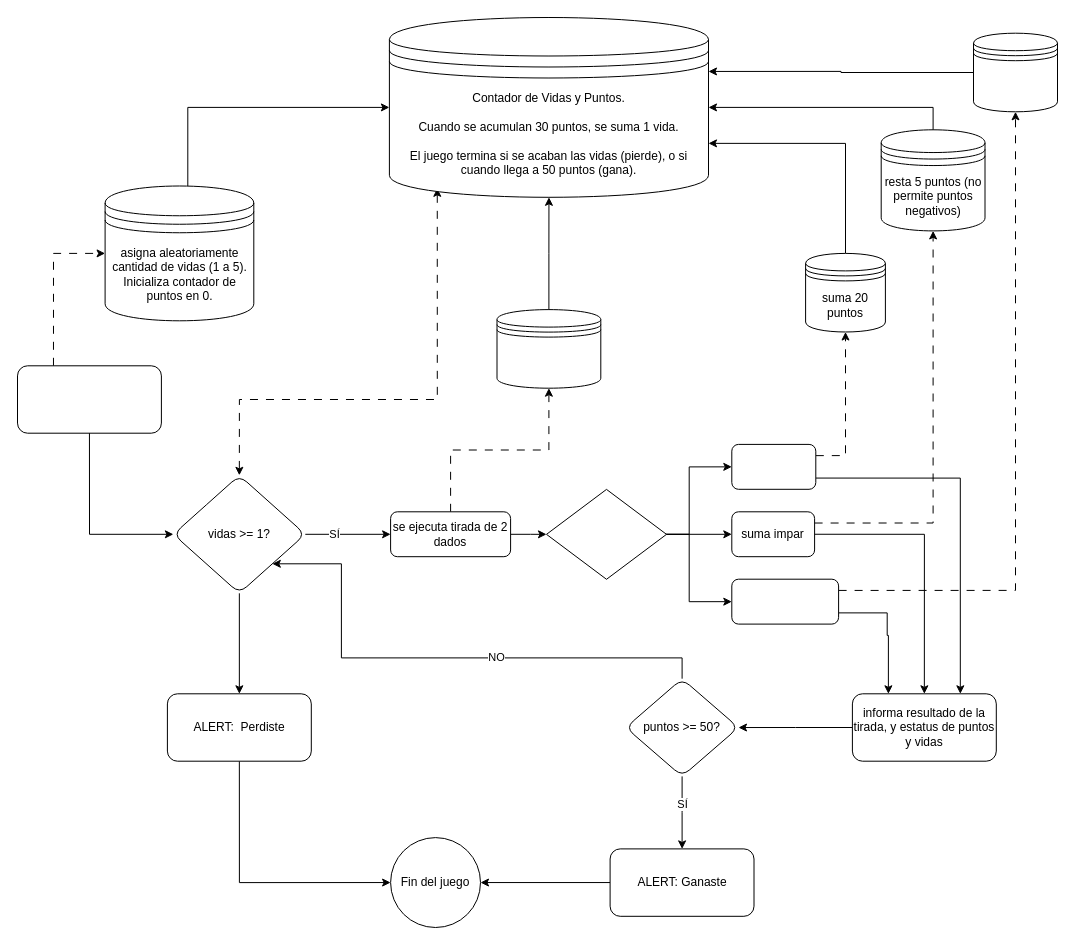
Some shapes in this 1075 by 945 pixel diagram are drawn without their labels. The shapes that lost their labels are listed below. From the top down, each one's centre as x and y in pixels, then its label:
At [1015,72]: "agrega 1 vida".
At [548,348]: "descuenta 1 vida al jugador".
At [88,399]: "Jugador se identifica".
At [773,466]: "suma par".
At [606,533]: "resultado tirada".
At [785,601]: "ambos dados mismo número".
